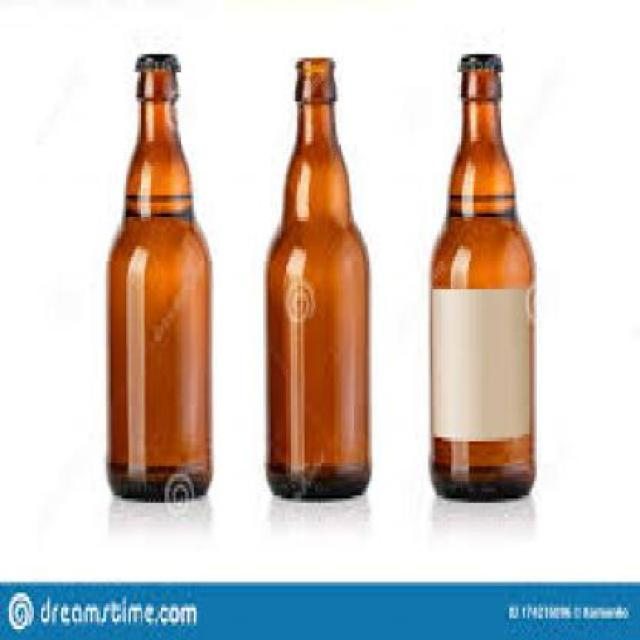kaca: (103, 65, 212, 503), (266, 55, 368, 500), (431, 65, 534, 503)
